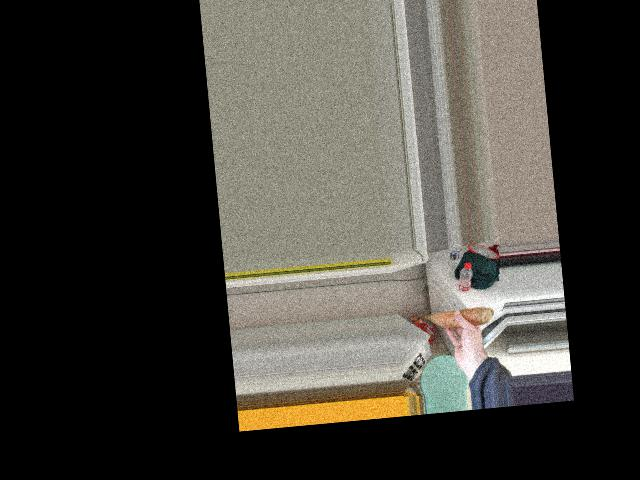sweet_potato: (427, 307, 488, 330)
